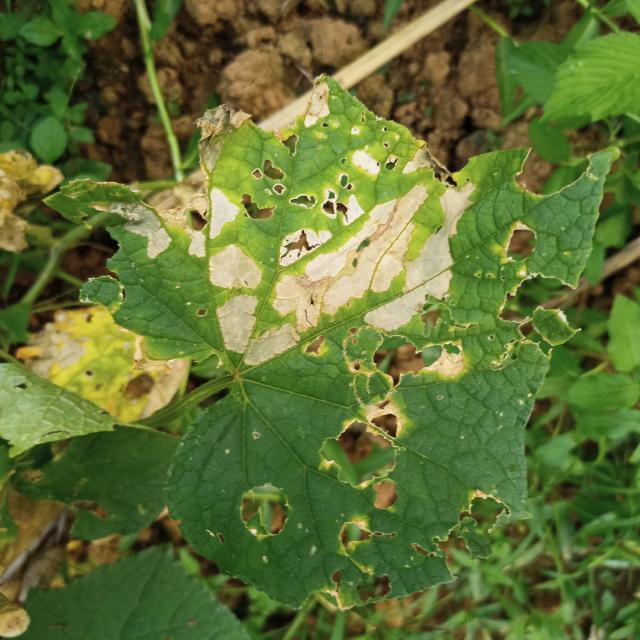disease_cucumber: (153, 114, 528, 388)
